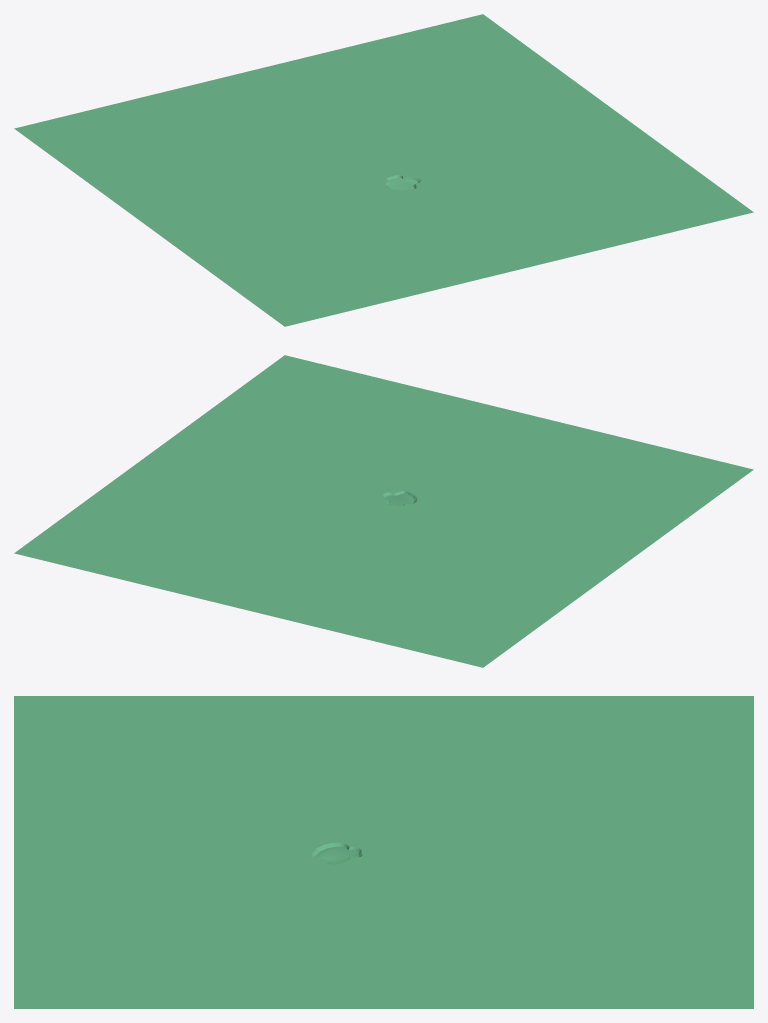
Rendered from Level_Intermediate_Medium_2_night_water.fbx.
The picture shows the model from 3 angles, top to bottom: view 1: azimuth 30°, elevation 25°; view 2: azimuth 150°, elevation 25°; view 3: azimuth 270°, elevation 25°; orthographic projection. The views are drawn at different scales.
Visible parts, largest first — view 1: Plane.003; view 2: Plane.003; view 3: Plane.003.
Boxes of the visible parts, x1=… form: Plane.003: x1=14, y1=14, x2=753, y2=326; Plane.003: x1=14, y1=355, x2=753, y2=667; Plane.003: x1=14, y1=696, x2=753, y2=1008.
Bounding box in the file's own units: 66365 × 223 × 66365.
